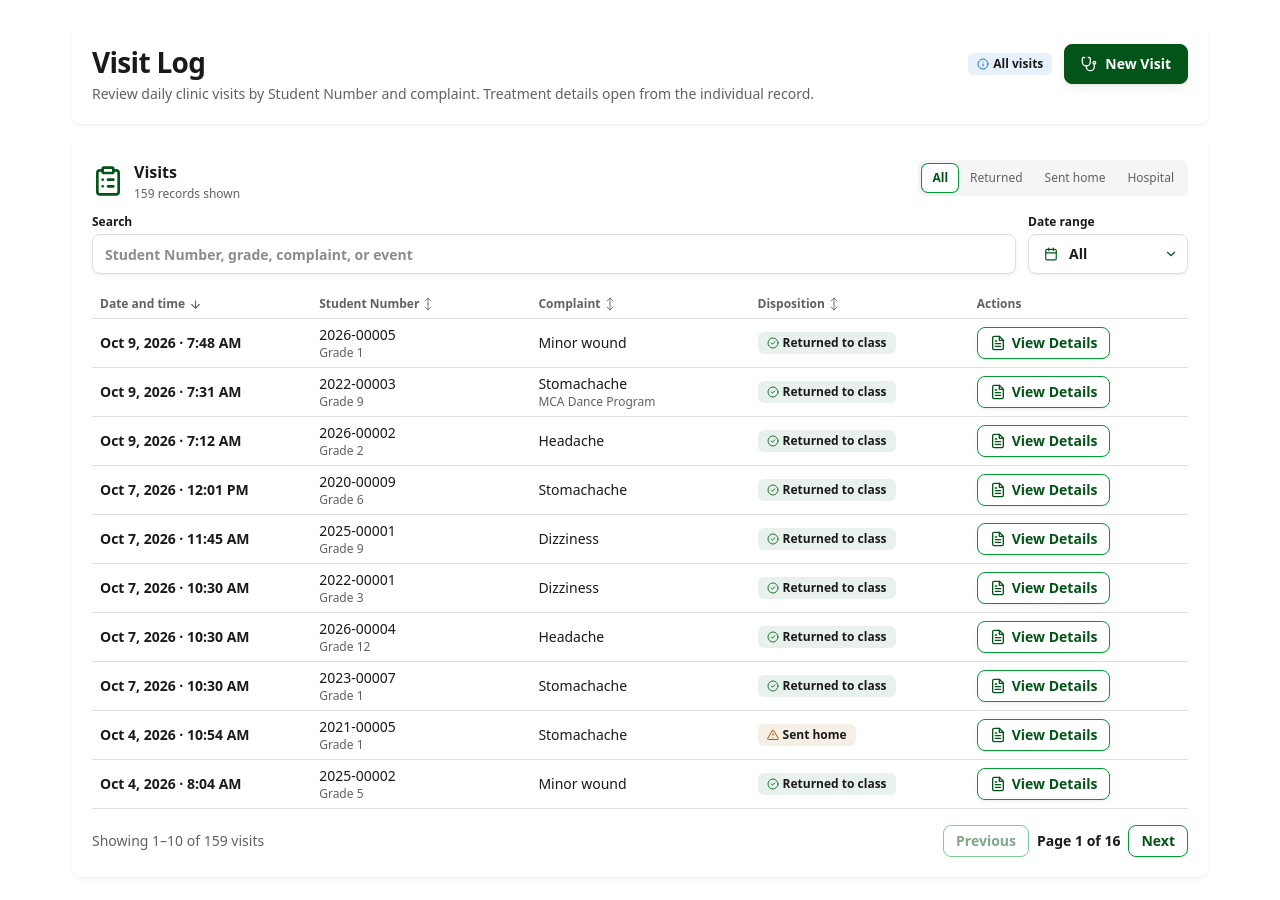
Visit Log › filters by disposition
Expected: the heading "Visit Log" is shown, [92, 43, 205, 81]
Click the radio button labelled "Sent home": [1075, 178] box [1035, 164, 1116, 192]
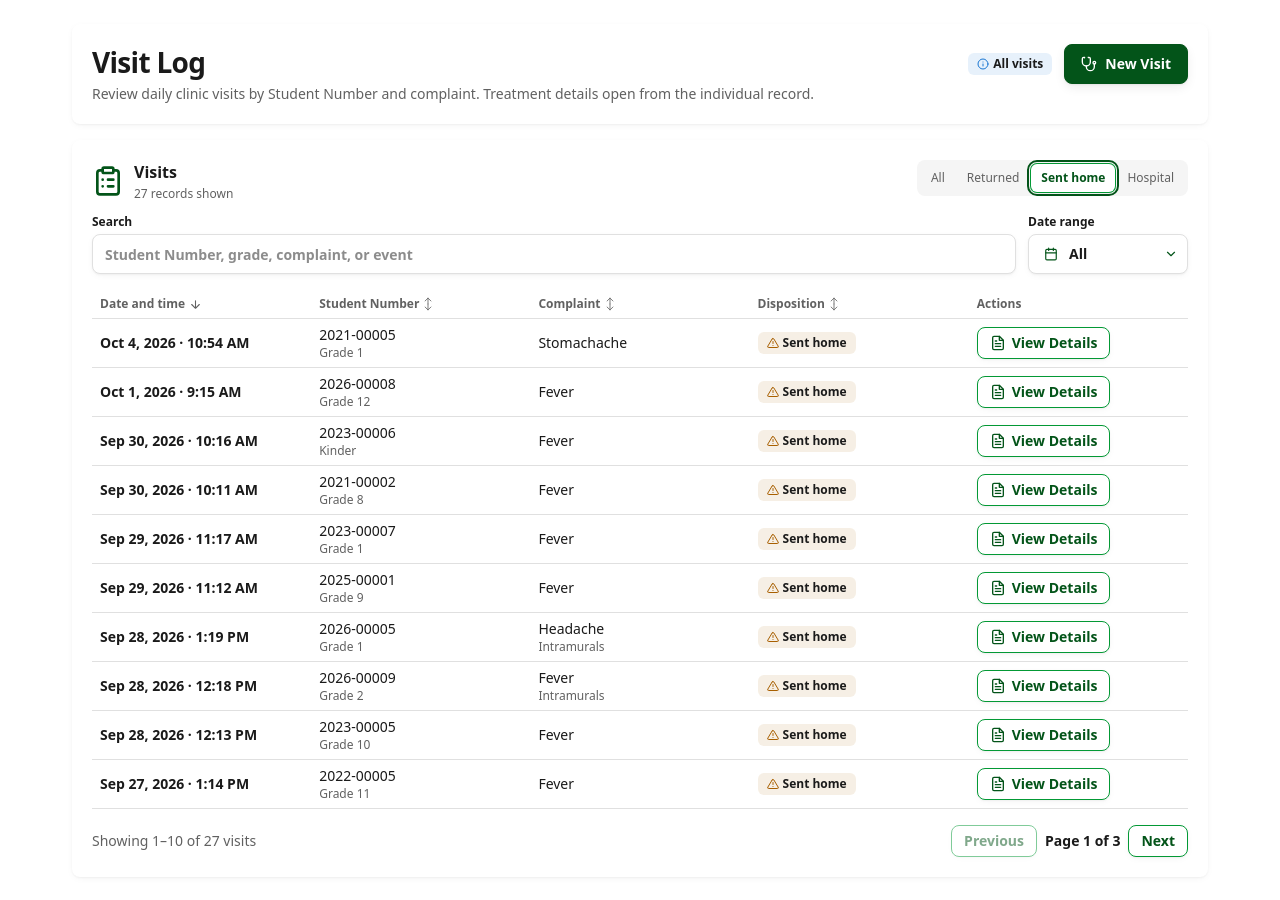
Now the text "Sent home" in the row of "Oct 1, 2026 · 9:15 AM" is shown, box [783, 383, 847, 400]
Now the text "Sent home" in the row of "Sep 30, 2026 · 10:16 AM" is shown, box [783, 432, 847, 449]
Now the text "Sent home" in the row of "Sep 30, 2026 · 10:11 AM" is shown, box [783, 481, 847, 498]
